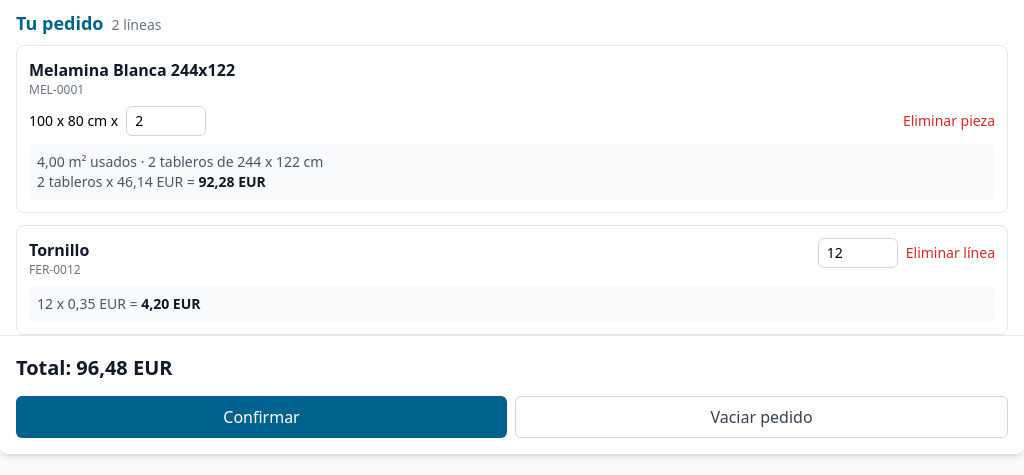
Test: OrderSummary › ignores invalid piece quantities and restores the value
Replace the text in the number field named "Cantidad de piezas 100 x 80 cm" with "0" at (166, 121), box top-left (126, 106), bottom-right (206, 136)
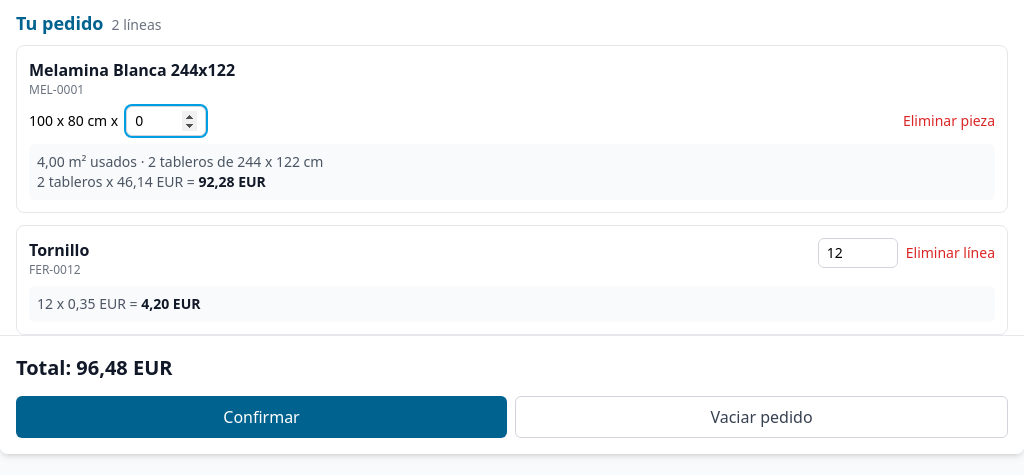
Press Tab
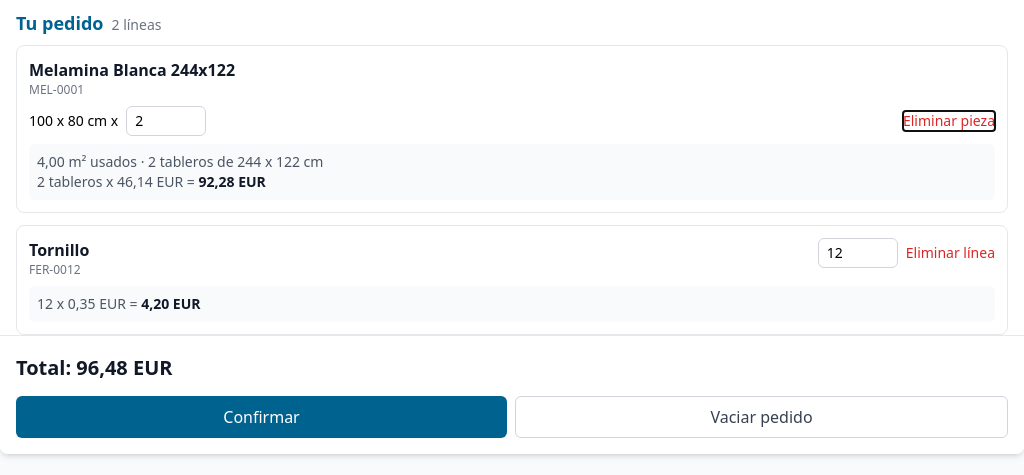
Expected: the number field named "Cantidad de piezas 100 x 80 cm" holds "2", top-left (126, 106), bottom-right (206, 136)
